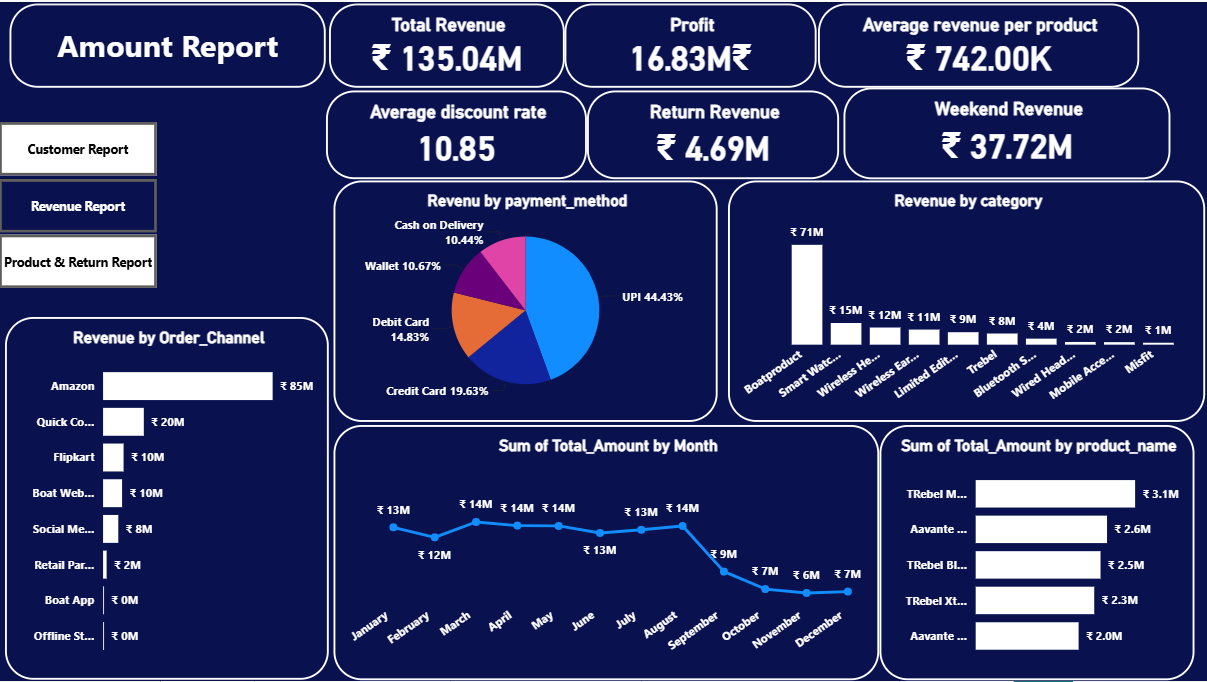

What the dashboard file says about the page in this screenshot:
{"tool":"powerbi","page":{"name":"Revenue Report","canvas":[1280,720],"ordinal":2},"visuals":[{"type":"card","title":"Average revenue per product","fields":{"Values":["Boat Customer.Avg_revenue_per_product"]},"box":[868.5,1.6,340.4,89.1],"z":0},{"type":"card","title":"Average discount rate","fields":{"Values":["Avg(Order_Detail.discount_percent)"]},"box":[346.8,93.8,276.8,93.8],"z":1000},{"type":"card","title":"Total Revenue","fields":{"Values":["Sum(Order_Detail.Total_Amount)"]},"box":[349.9,1.6,249.7,89.1],"z":2000},{"type":"card","title":"Weekend Revenue","fields":{"Values":["Order_Boat.weekend_revenue"]},"box":[895.5,90.7,346.8,97],"z":3000},{"type":"card","title":"Profit","fields":{"Values":["Order_Detail.profit"]},"box":[599.7,1.6,267.2,89.1],"z":4000},{"type":"clusteredColumnChart","title":"Revenue  by category","fields":{"Category":["Product.category"],"Y":["Sum(Order_Detail.Total_Amount)"]},"box":[773,189.3,505.8,256.1],"z":5000},{"type":"pieChart","title":"Revenu by payment_method","fields":{"Category":["Order_Boat.payment_method"],"Y":["Sum(Order_Detail.Total_Amount)"]},"box":[354.7,189.3,407.2,256.1],"z":6000},{"type":"clusteredBarChart","title":"Revenue by Order_Channel","fields":{"Category":["Order_Boat.Order_Channel"],"Y":["Sum(Order_Detail.Total_Amount)"]},"box":[6.4,334,343.6,384.9],"z":7000},{"type":"lineChart","fields":{"Category":["Order_Boat.order_date.Variation.Date Hierarchy.Month"],"Y":["Sum(Order_Detail.Total_Amount)"]},"box":[354.7,448.6,579,270.4],"z":8000},{"type":"clusteredBarChart","fields":{"Y":["Sum(Order_Detail.Total_Amount)"],"Category":["Product.product_name"]},"box":[933.7,448.6,334,270.4],"z":9000},{"type":"card","title":"Return Revenue","fields":{"Values":["Order_Detail.Return_revenue"]},"box":[623.5,93.8,267.2,93.8],"z":10000},{"type":"textbox","box":[11.1,1.6,335.6,89.1],"z":11000},{"type":"actionButton","box":[0,126.9,167.5,56.9],"z":12000},{"type":"actionButton","box":[0,187.1,167.5,56.9],"z":13000},{"type":"actionButton","box":[0,247.2,167.5,56.9],"z":14000}]}

Visuals, with their boxes in screenshot pixels (x1, y1, x2, y2), scaled from the page's 1280x720 canvas onto the 1207x682 screenshot:
"Average revenue per product" card: [x1=819, y1=2, x2=1140, y2=86]
"Average discount rate" card: [x1=327, y1=89, x2=588, y2=178]
"Total Revenue" card: [x1=330, y1=2, x2=565, y2=86]
"Weekend Revenue" card: [x1=844, y1=86, x2=1171, y2=178]
"Profit" card: [x1=565, y1=2, x2=817, y2=86]
"Revenue  by category" clusteredColumnChart: [x1=729, y1=179, x2=1206, y2=422]
"Revenu by payment_method" pieChart: [x1=334, y1=179, x2=718, y2=422]
"Revenue by Order_Channel" clusteredBarChart: [x1=6, y1=316, x2=330, y2=681]
lineChart - Order_Boat.order_date.Variation.Date Hierarchy.Month x Sum(Order_Detail.Total_Amount): [x1=334, y1=425, x2=880, y2=681]
clusteredBarChart - Sum(Order_Detail.Total_Amount) x Product.product_name: [x1=880, y1=425, x2=1195, y2=681]
"Return Revenue" card: [x1=588, y1=89, x2=840, y2=178]
textbox: [x1=10, y1=2, x2=327, y2=86]
actionButton: [x1=0, y1=120, x2=158, y2=174]
actionButton: [x1=0, y1=177, x2=158, y2=231]
actionButton: [x1=0, y1=234, x2=158, y2=288]
